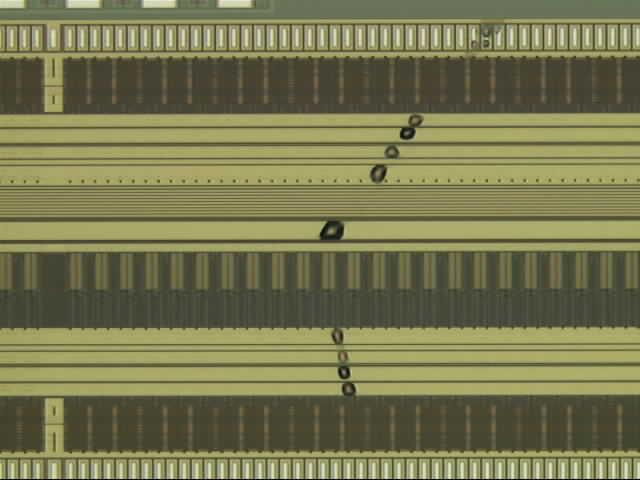PO CONTAMINATION: (315, 5, 511, 404)
